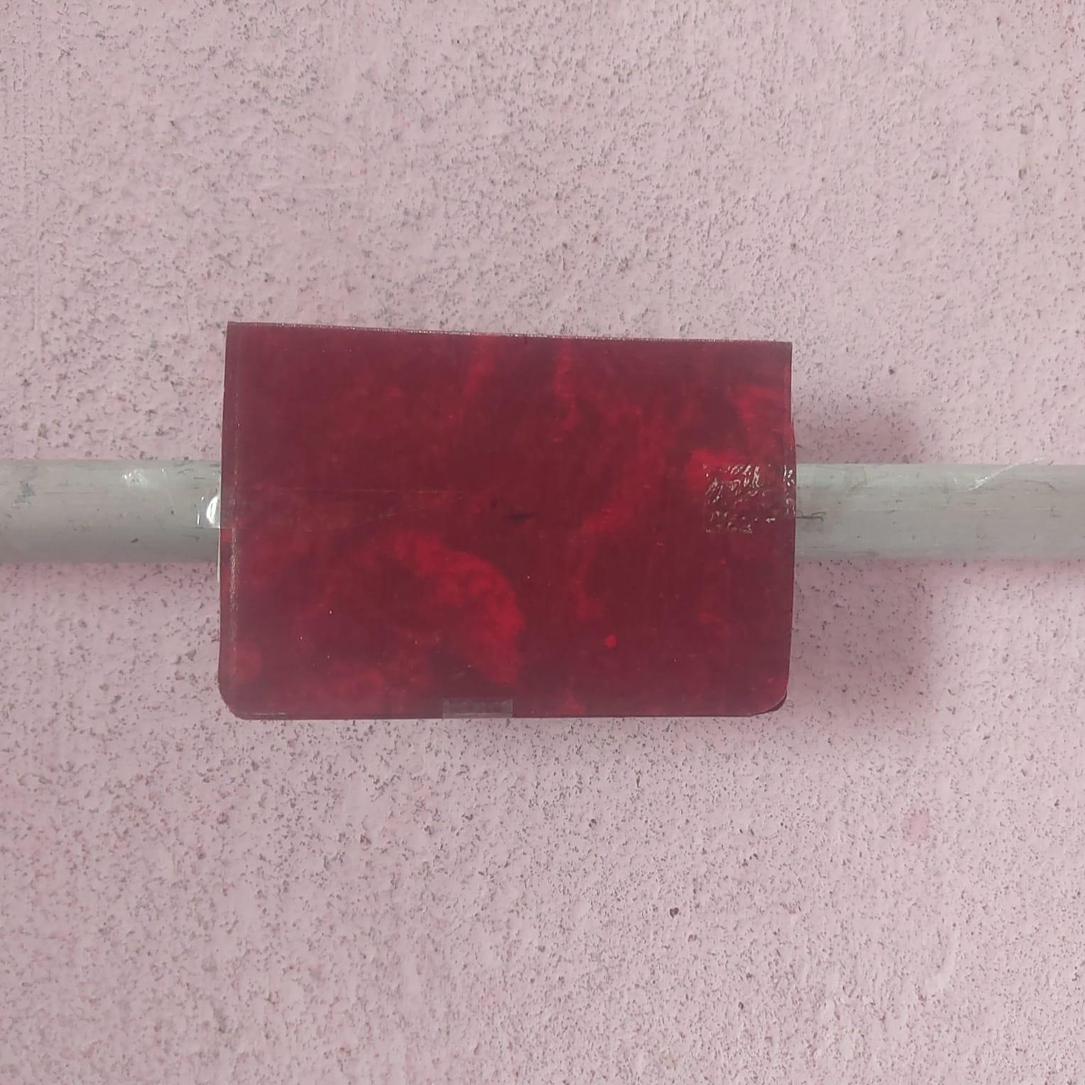wallet: (214, 325, 802, 718)
